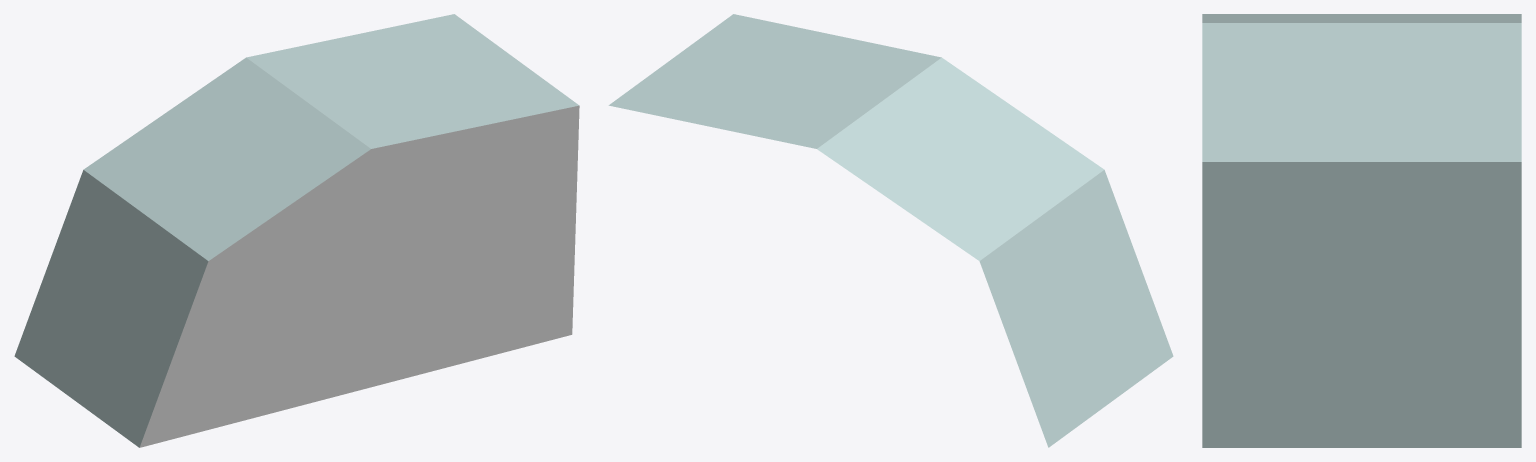
3 renders of one model, left to right at view 1: azimuth 30°, elevation 25°; view 2: azimuth 150°, elevation 25°; view 3: azimuth 270°, elevation 25°, orthographic. The views are drawn at different scales.
Parts seen in each view (by area): view 1: 0_1_0_1_1_2_3_1_3; view 2: 0_1_0_1_1_2_3_1_3; view 3: 0_1_0_1_1_2_3_1_3.
Boxes of the visible parts, x1=… form: 0_1_0_1_1_2_3_1_3: x1=14, y1=14, x2=579, y2=447; 0_1_0_1_1_2_3_1_3: x1=608, y1=14, x2=1173, y2=447; 0_1_0_1_1_2_3_1_3: x1=1202, y1=14, x2=1521, y2=447.
Size of the model in its own units: 6.09 by 3.21 by 3.
